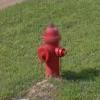Hydrant: (29, 18, 71, 77)
